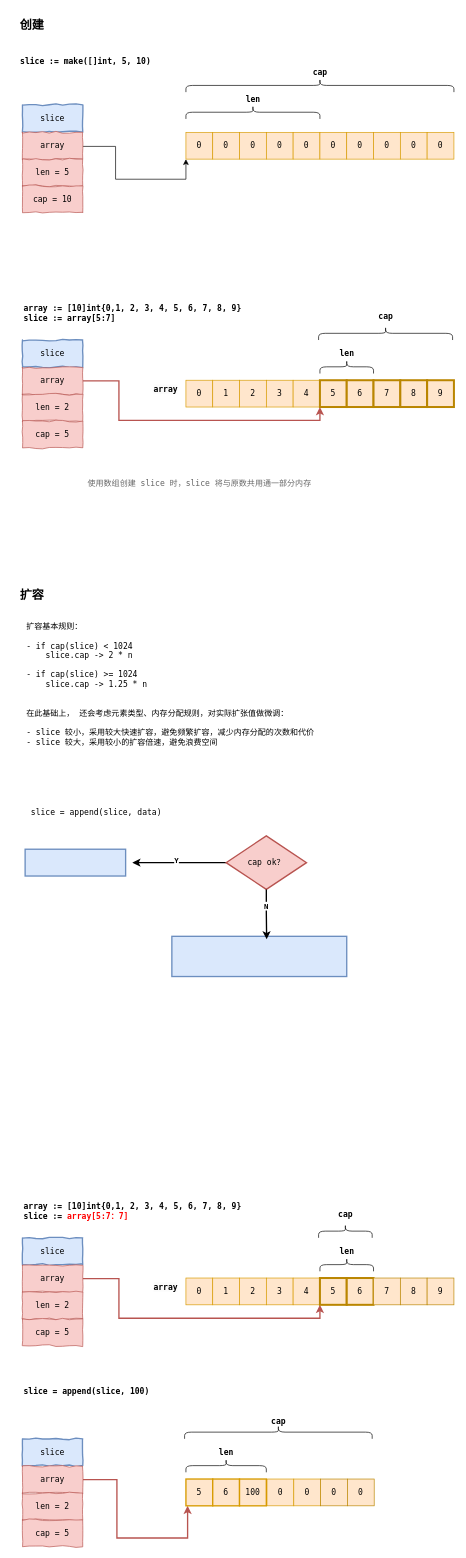
This 466x1558 diagram has some shape labels left out. Each missing label, with the centre of its shape:
(1) memmove -> new slice (2) new element... -> slice, len++ (3) return slice: the point at 259,956
(1) slice.len++ (2) return slice: the point at 75,862
